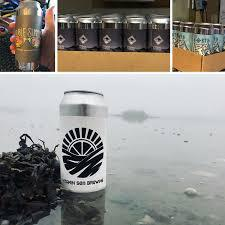beer: (57, 90, 109, 195), (58, 14, 167, 53)
